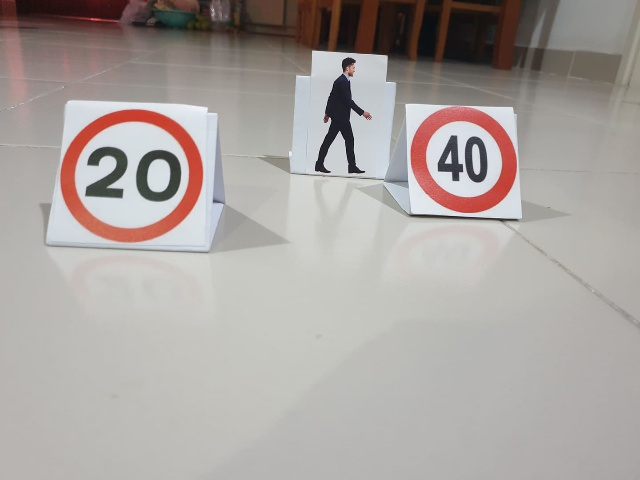Limit 20: (65, 104, 205, 242)
Limit 40: (405, 105, 519, 216)
Person: (311, 49, 373, 180)
